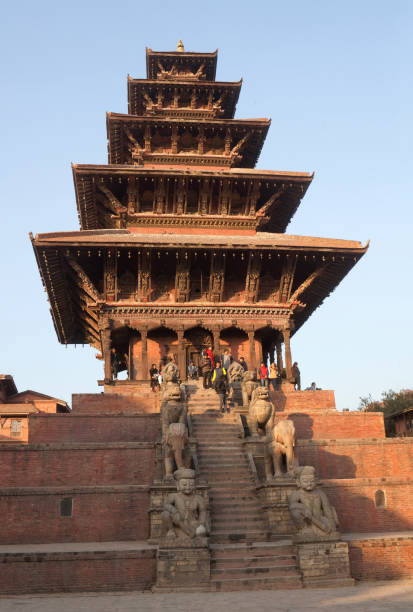nyathapola: (34, 19, 360, 611)
